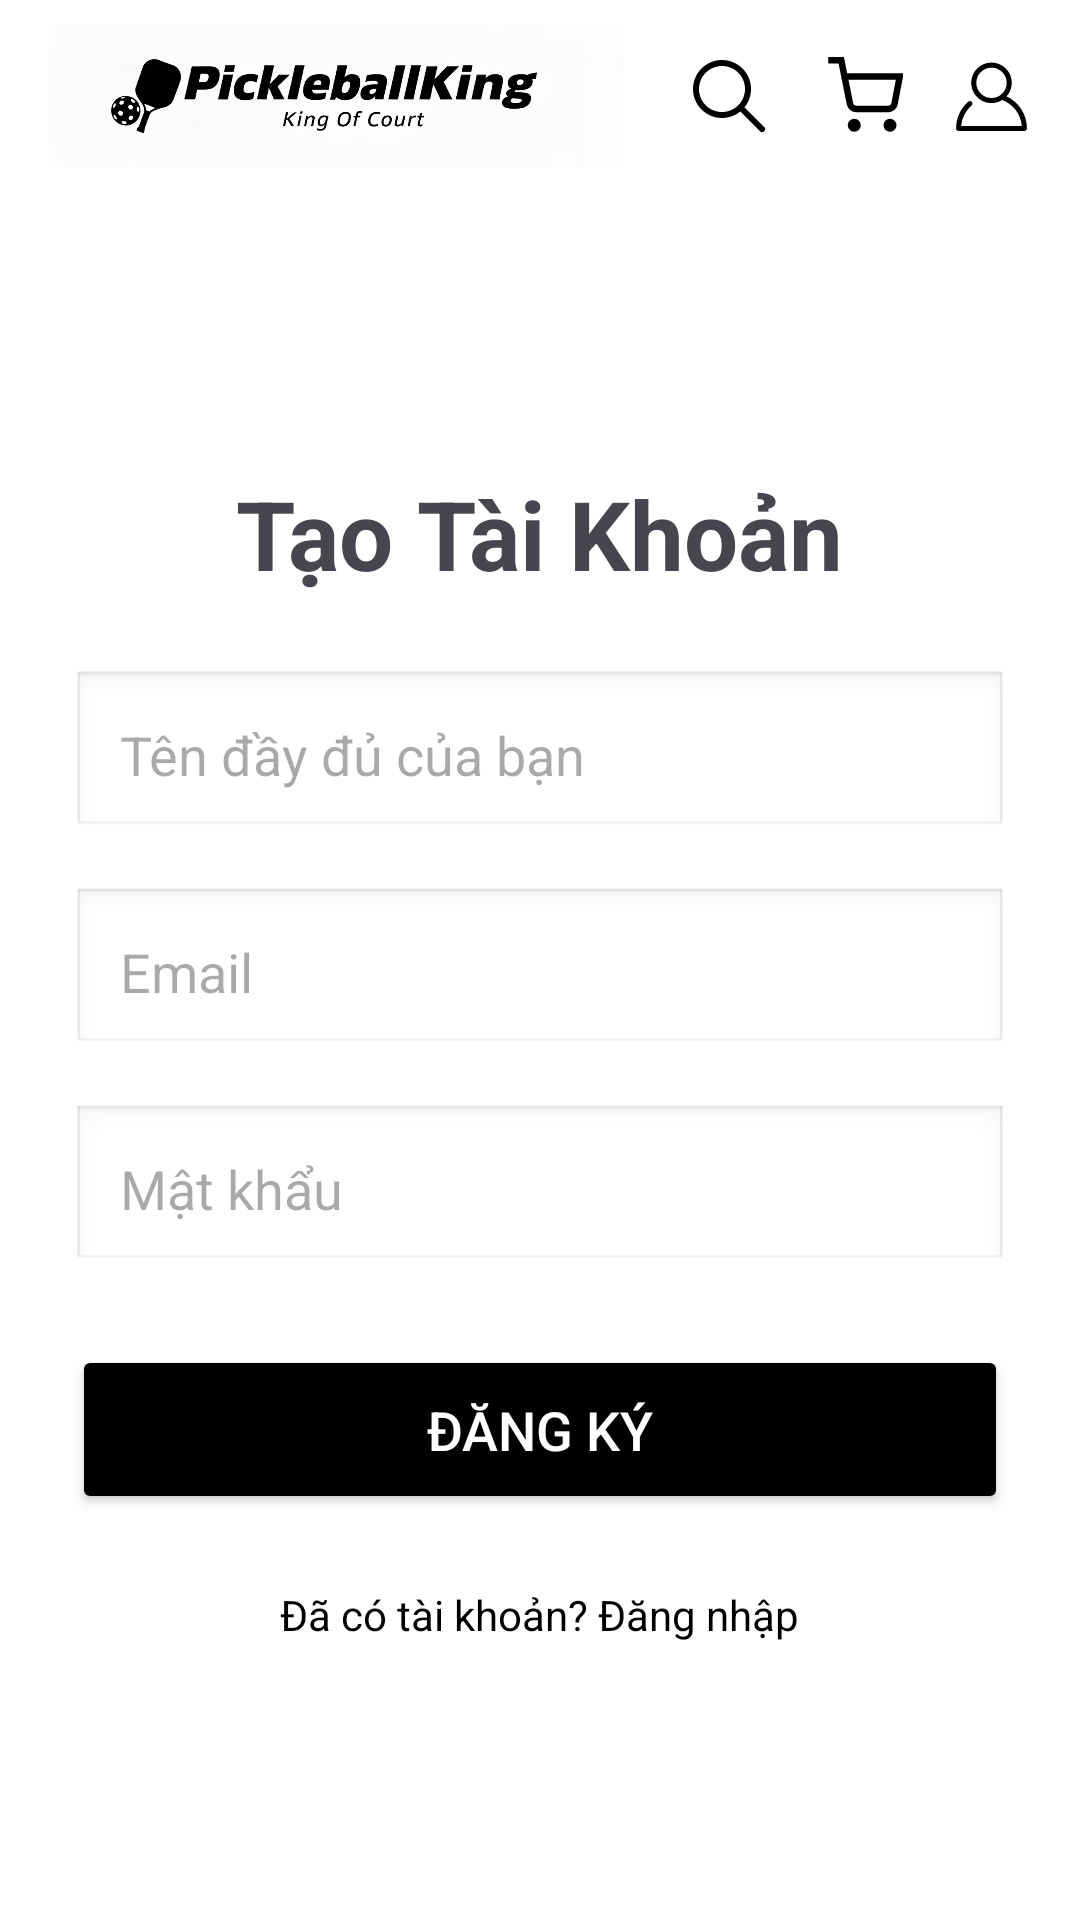

Icons on this 1080*1920 Android screen, each with the point to tap as (x,y):
Account: (991,96)
Cart: (865,94)
Search: (729,96)
